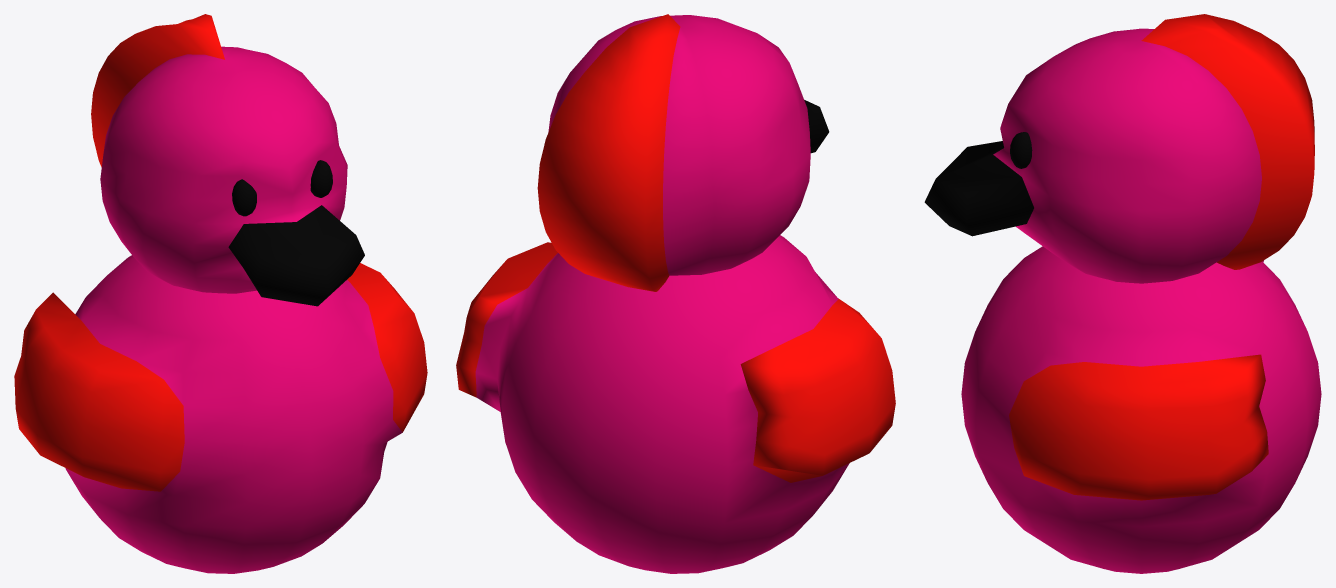
The model's file is FLAMANTS ROSE .fbx.
3 renders of one model, left to right at view 1: azimuth 30°, elevation 25°; view 2: azimuth 150°, elevation 25°; view 3: azimuth 270°, elevation 25°, orthographic. The views are drawn at different scales.
Visible parts, largest first — view 1: body, head, reye, leye; view 2: body, head; view 3: body, head, leye.
Boxes of the visible parts, bbox=[...] form: body: bbox=[14, 255, 427, 573]; head: bbox=[91, 14, 364, 306]; reye: bbox=[232, 179, 256, 216]; leye: bbox=[310, 160, 332, 197]; body: bbox=[456, 235, 895, 573]; head: bbox=[537, 14, 829, 291]; body: bbox=[961, 246, 1321, 573]; head: bbox=[924, 14, 1314, 283]; leye: bbox=[1010, 132, 1032, 168].
Size of the model in its own units: 390 by 524 by 351.
